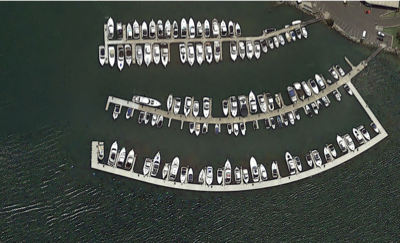boat: (132, 95, 162, 106), (107, 140, 118, 165), (151, 151, 162, 176), (169, 156, 180, 181), (285, 151, 296, 175), (238, 94, 249, 117), (124, 148, 135, 170), (250, 155, 259, 181), (285, 86, 298, 104), (293, 82, 305, 101), (343, 133, 355, 151), (117, 44, 125, 71), (311, 149, 322, 168), (224, 158, 232, 184), (249, 90, 258, 113), (352, 127, 364, 144), (336, 134, 347, 152), (160, 43, 168, 67), (265, 92, 275, 111), (308, 78, 319, 95), (213, 40, 221, 63), (187, 43, 195, 66), (135, 45, 143, 68), (117, 147, 126, 167), (257, 94, 267, 112), (359, 125, 371, 140), (301, 80, 312, 96), (315, 73, 326, 89), (205, 42, 213, 64), (124, 44, 132, 66), (107, 16, 115, 38), (184, 96, 192, 117), (206, 165, 214, 186), (230, 96, 238, 117), (196, 44, 204, 65), (153, 44, 161, 65), (144, 43, 151, 67), (164, 18, 172, 39), (108, 46, 116, 67), (98, 45, 106, 66), (143, 157, 152, 175), (230, 41, 238, 61), (212, 17, 220, 37), (179, 43, 187, 63), (180, 17, 188, 37), (203, 96, 210, 118), (189, 16, 196, 38), (97, 141, 105, 160), (173, 97, 181, 115), (323, 146, 332, 162), (327, 67, 339, 79), (116, 21, 124, 39), (167, 93, 174, 113), (327, 143, 337, 157), (246, 40, 253, 60), (149, 18, 156, 38), (133, 18, 140, 38), (260, 163, 268, 180), (254, 41, 261, 60), (238, 41, 245, 60), (204, 18, 211, 37), (157, 18, 164, 37), (335, 64, 346, 76), (180, 166, 187, 184), (234, 165, 241, 183), (220, 18, 227, 36), (141, 20, 148, 38), (113, 105, 121, 120), (274, 93, 282, 108), (370, 121, 380, 133), (162, 162, 169, 179), (193, 100, 200, 117), (222, 99, 229, 116), (126, 22, 133, 39), (260, 39, 268, 53), (228, 19, 235, 35), (343, 84, 353, 95), (173, 19, 179, 37), (187, 167, 194, 182), (271, 162, 278, 177), (295, 156, 302, 171), (287, 112, 295, 125), (199, 167, 205, 184), (217, 167, 223, 184), (197, 19, 203, 36), (321, 96, 330, 107), (305, 153, 312, 167), (235, 21, 242, 35), (305, 104, 313, 116), (311, 102, 319, 114), (157, 115, 164, 128), (243, 168, 249, 183), (332, 91, 341, 101), (138, 111, 145, 123), (195, 123, 201, 137), (267, 37, 274, 49), (273, 36, 280, 48), (295, 27, 302, 39), (282, 114, 289, 125), (278, 34, 285, 45), (240, 123, 246, 135), (270, 117, 276, 129), (277, 116, 283, 128), (285, 31, 291, 43), (234, 123, 239, 137), (126, 108, 132, 119), (145, 113, 151, 124), (290, 30, 296, 41), (302, 27, 308, 38), (291, 19, 302, 25), (152, 114, 157, 126), (189, 122, 194, 134), (202, 122, 207, 134), (214, 123, 219, 135), (294, 110, 300, 120), (316, 100, 323, 108), (227, 123, 232, 134), (265, 118, 270, 129), (265, 27, 276, 32), (253, 121, 257, 130), (326, 78, 332, 83), (284, 24, 290, 28)
